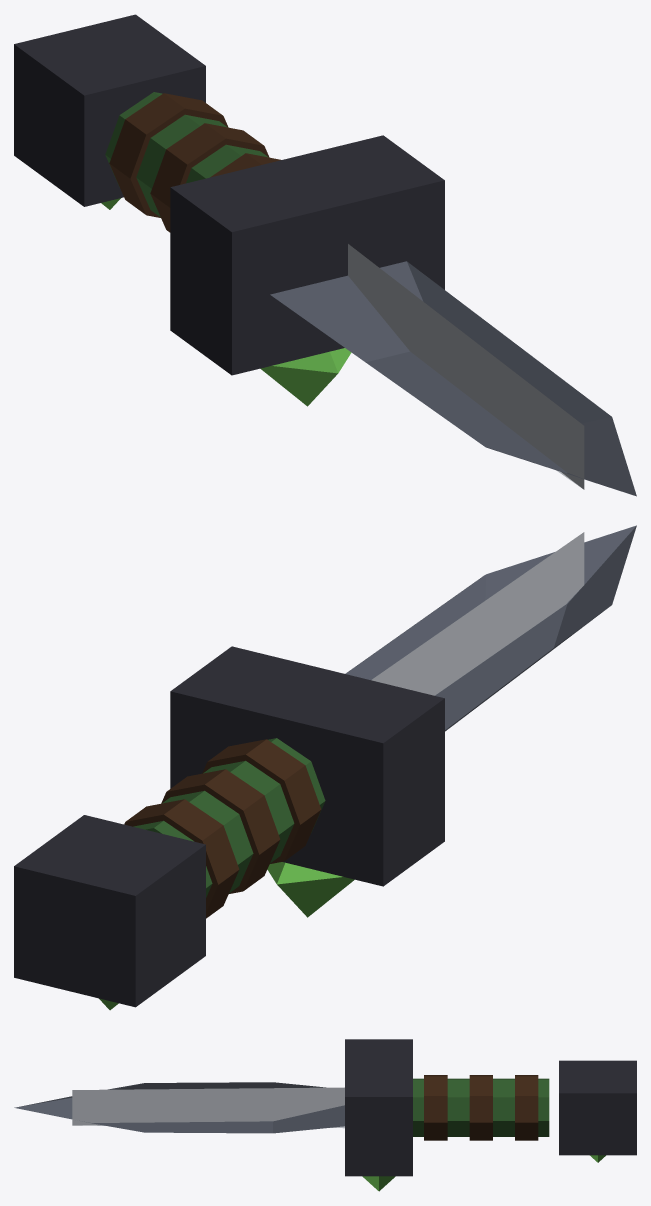
The model's file is 05_Dagger.glb.
3 renders of one model, top to bottom at view 1: azimuth 30°, elevation 25°; view 2: azimuth 150°, elevation 25°; view 3: azimuth 270°, elevation 25°, orthographic. The views are drawn at different scales.
Visible parts, largest first — view 1: 05_Dagger; view 2: 05_Dagger; view 3: 05_Dagger.
Boxes of the visible parts, left/top/right/bottom form: 05_Dagger: left=14, top=14, right=636, bottom=496; 05_Dagger: left=14, top=525, right=636, bottom=1010; 05_Dagger: left=14, top=1039, right=636, bottom=1191.
Size of the model in its own units: 0.14 by 0.14 by 0.64.
